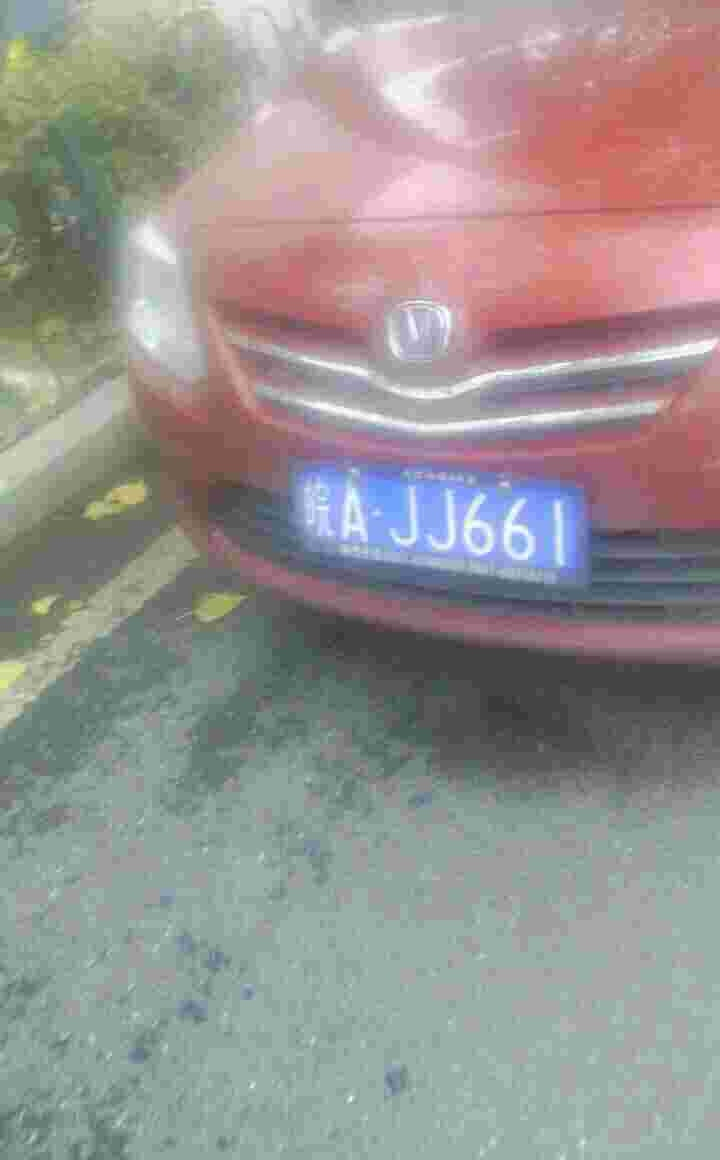license_plate: (291, 460, 595, 578)
